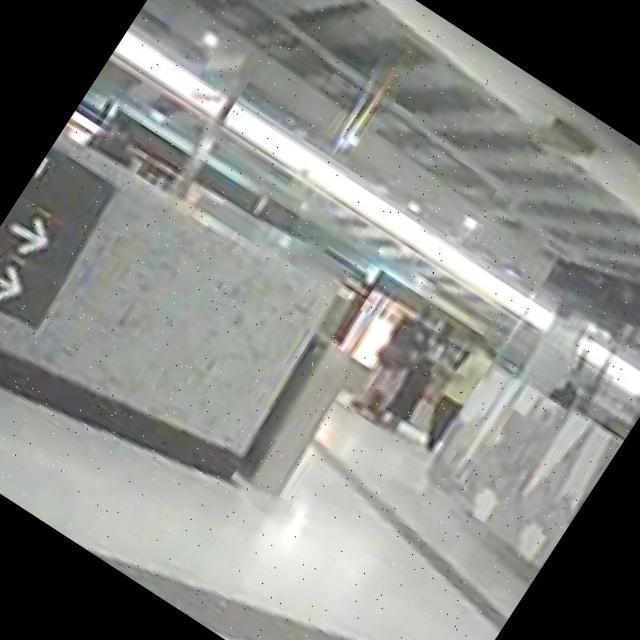person: (339, 290, 449, 426), (405, 332, 502, 458), (372, 318, 462, 437)
